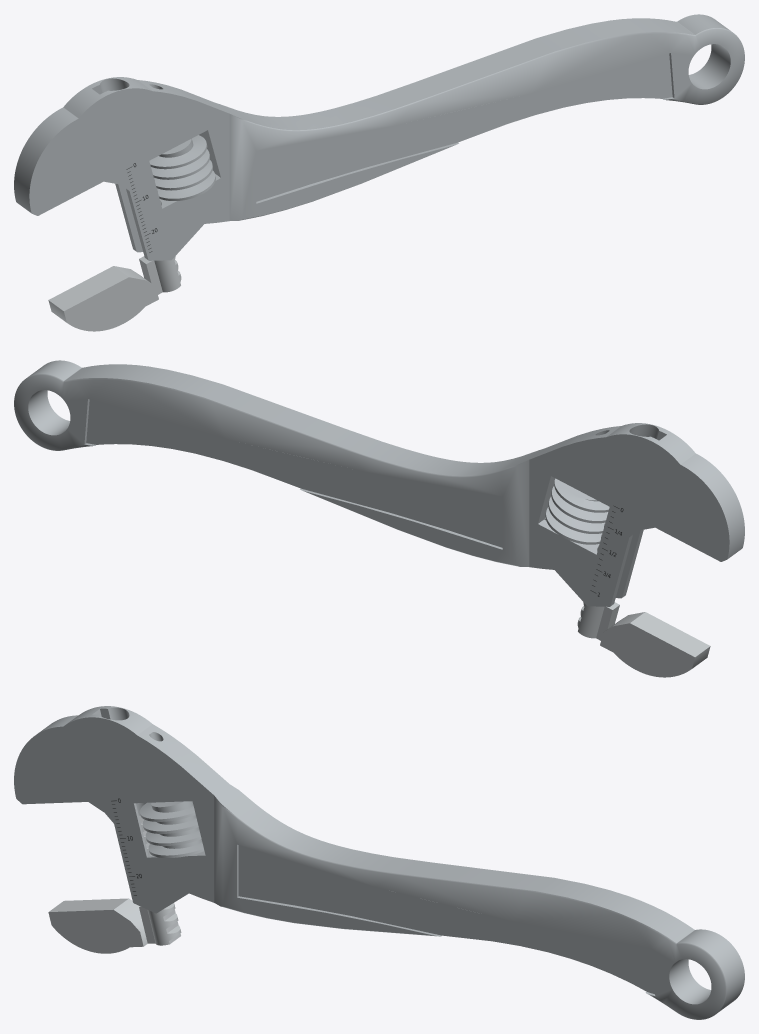
Rendered from crescent_ac28vs_catalogue_capacity.glb.
3 renders of one model, top to bottom at view 1: azimuth 30°, elevation 25°; view 2: azimuth 150°, elevation 25°; view 3: azimuth 330°, elevation 25°, orthographic.
Parts seen in each view (by area): view 1: forged_body_and_fixed_jaw, sliding_jaw_and_rack, helical_adjustment_worm; view 2: forged_body_and_fixed_jaw, sliding_jaw_and_rack, helical_adjustment_worm; view 3: forged_body_and_fixed_jaw, sliding_jaw_and_rack, helical_adjustment_worm.
Boxes of the visible parts, x1,y1,x2,y2 form: forged_body_and_fixed_jaw: (14, 14, 744, 260); sliding_jaw_and_rack: (48, 178, 181, 331); helical_adjustment_worm: (149, 135, 215, 200); forged_body_and_fixed_jaw: (14, 360, 744, 606); sliding_jaw_and_rack: (577, 523, 710, 677); helical_adjustment_worm: (544, 478, 609, 544); forged_body_and_fixed_jaw: (14, 706, 744, 1019); sliding_jaw_and_rack: (48, 815, 181, 953); helical_adjustment_worm: (139, 801, 204, 857).
Bounding box in the file's own units: 0.2032 × 0.0643 × 0.0167.
6 materials, 2 textured.
